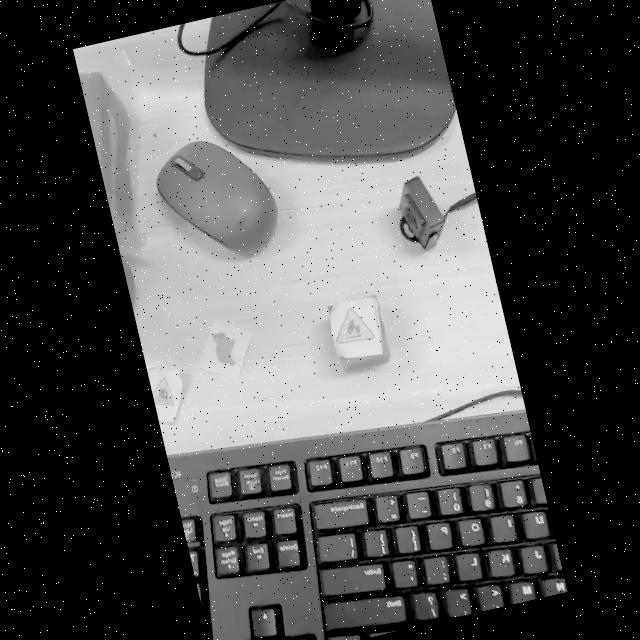Fire: (336, 307, 374, 343)
